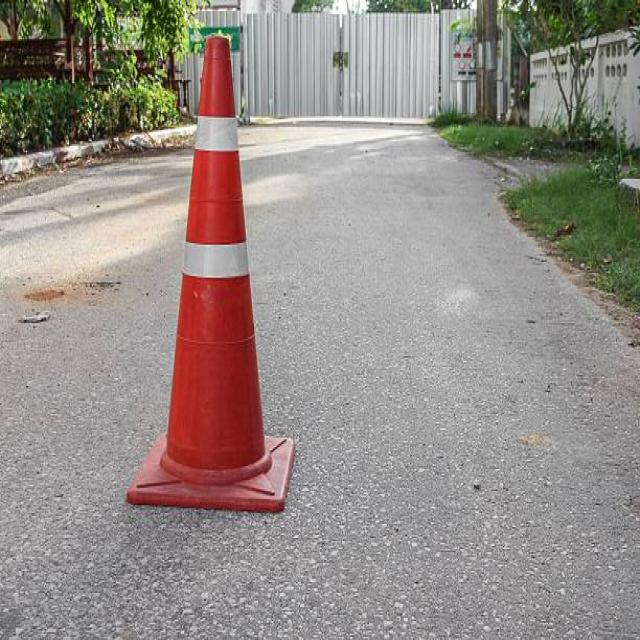Traffic Cone: (98, 2, 320, 546)
